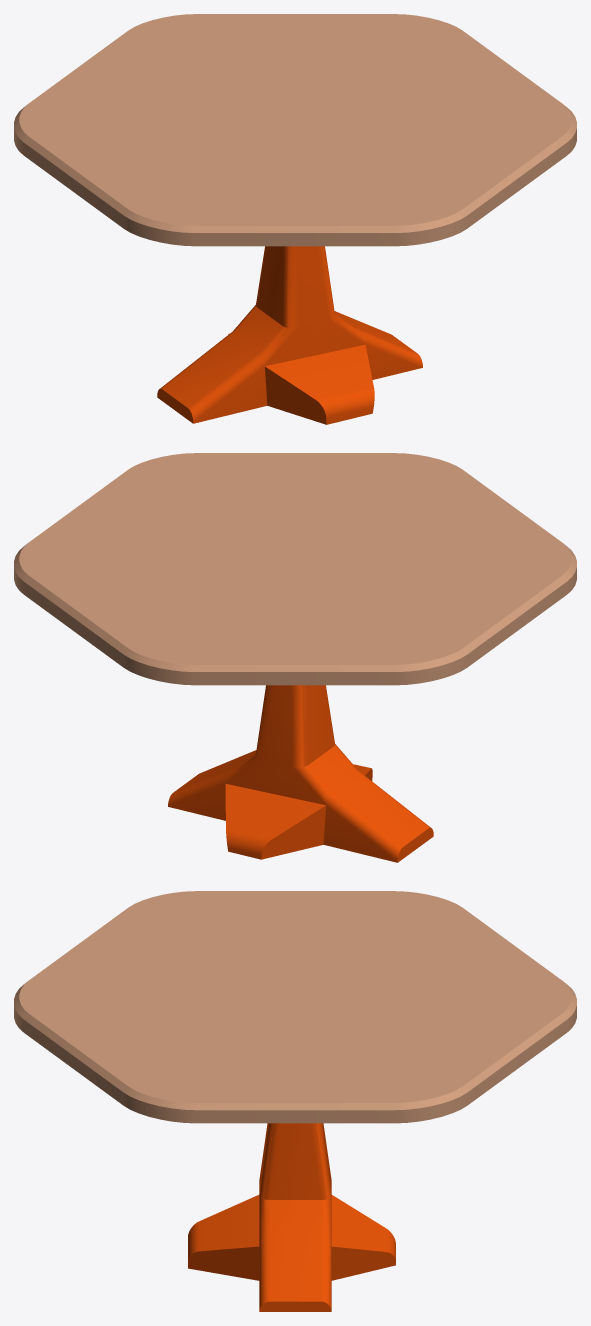
The model's file is DinningTable_v1.fbx.
3 views of the same model, one above another, from view 1: azimuth 30°, elevation 25°; view 2: azimuth 150°, elevation 25°; view 3: azimuth 270°, elevation 25° (orthographic).
Visible parts, largest first — view 1: Round_table; view 2: Round_table; view 3: Round_table.
Boxes of the visible parts, bbox=[...] form: Round_table: bbox=[14, 14, 576, 424]; Round_table: bbox=[14, 453, 576, 862]; Round_table: bbox=[14, 891, 576, 1311].
Bounding box in the file's own units: 157 × 88.27 × 172.
